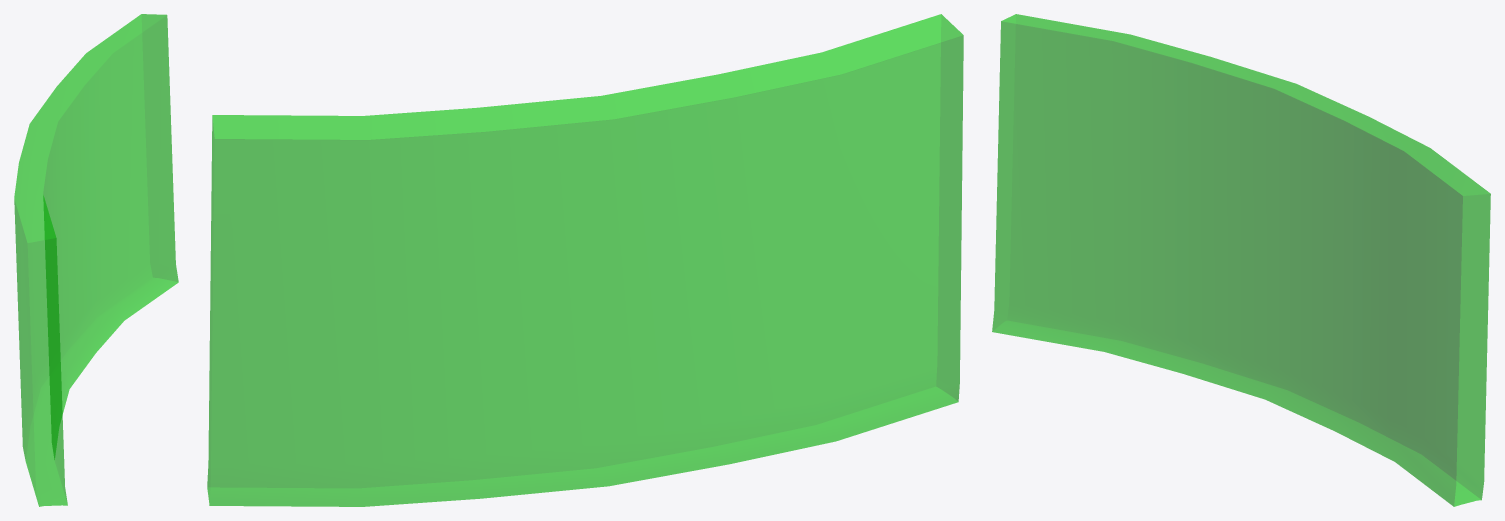
The model's file is display_00v1.fbx.
The picture shows the model from 3 angles, left to right: view 1: azimuth 30°, elevation 25°; view 2: azimuth 150°, elevation 25°; view 3: azimuth 270°, elevation 25°; orthographic projection. The views are drawn at different scales.
Visible parts, largest first — view 1: polySurface2; view 2: polySurface2; view 3: polySurface2.
Part boxes in pixels (x1,y1,x2,y2): polySurface2: (14, 14, 178, 506); polySurface2: (207, 14, 963, 506); polySurface2: (992, 14, 1490, 506).
Bounding box in the file's own units: 13.82 × 10.34 × 15.19.
